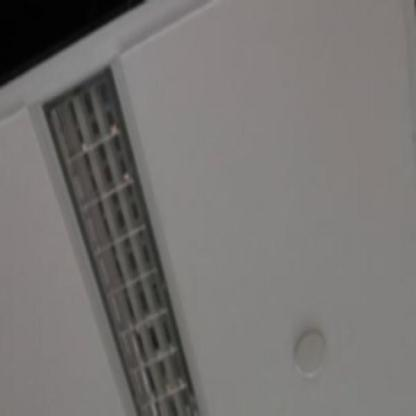light_off: (18, 38, 235, 415)
